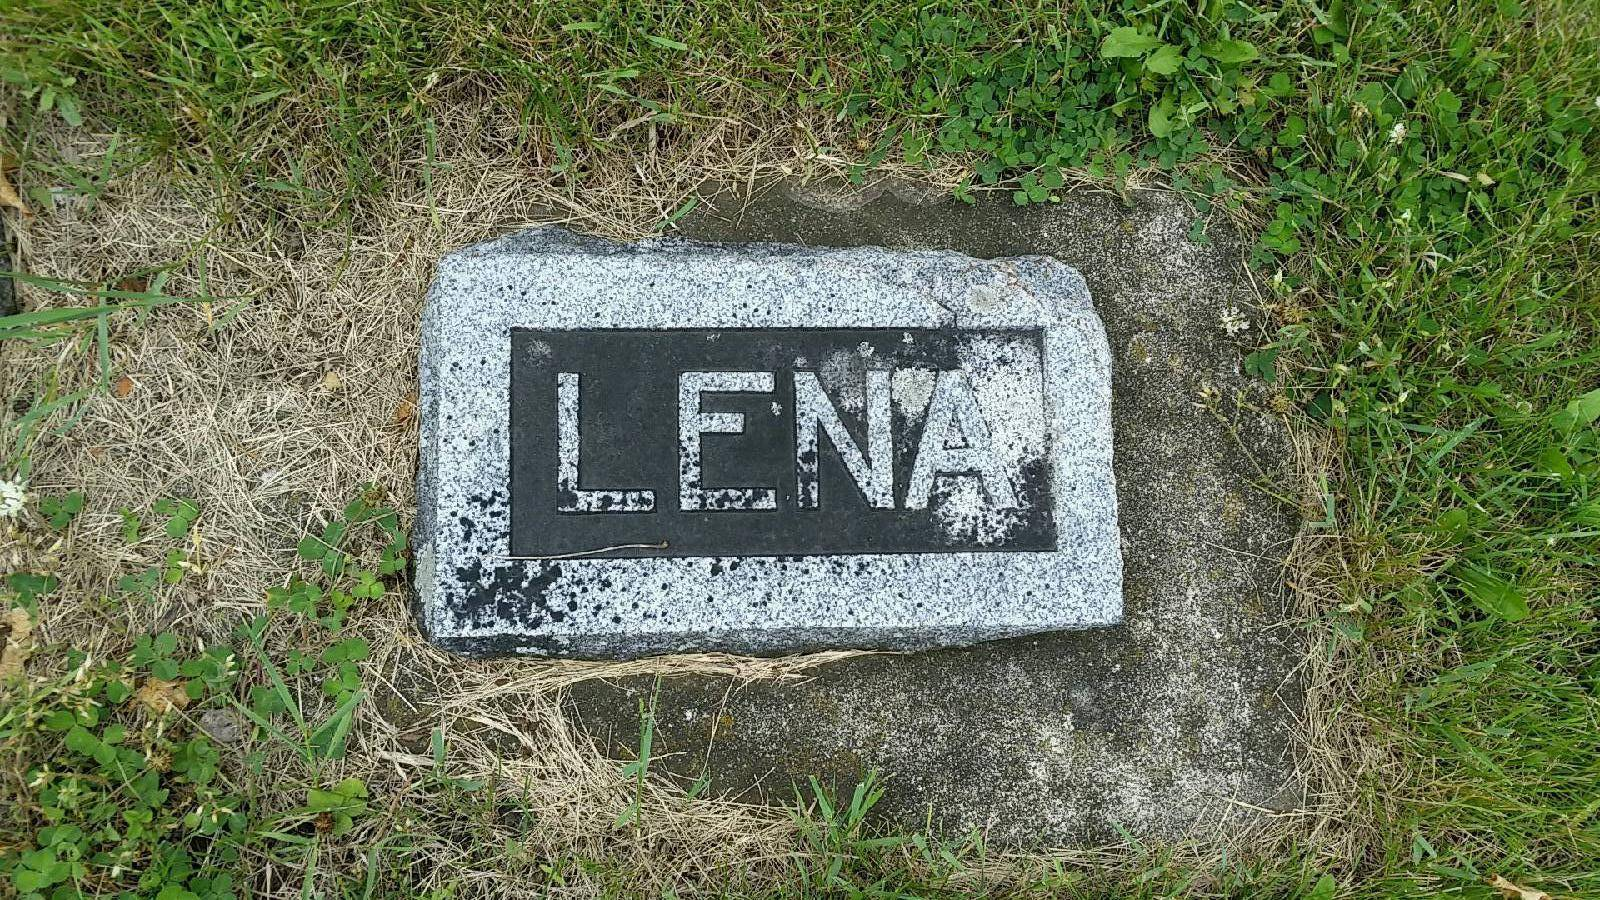flat: (407, 243, 1126, 662)
